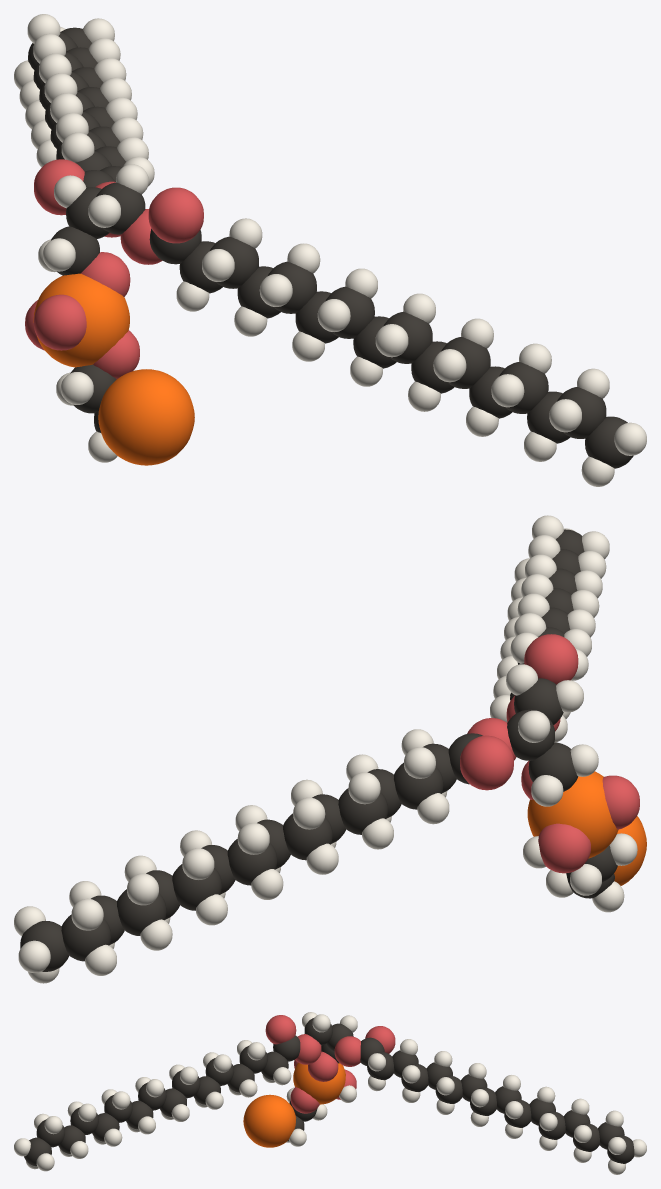
File: phospholipid-membrane.glb
3 views of the same model, one above another, from view 1: azimuth 30°, elevation 25°; view 2: azimuth 150°, elevation 25°; view 3: azimuth 270°, elevation 25° (orthographic). The views are drawn at different scales.
Parts seen in each view (by area): view 1: function-focus-N-2, function-focus-P-46, real-atom-O-39, real-atom-O-42, real-atom-O-38, real-atom-C-37, real-atom-C-34, real-atom-C-26, real-atom-C-28, real-atom-C-30, real-atom-C-24, real-atom-C-36 (+47 smaller); view 2: function-focus-P-46, real-atom-O-38, real-atom-O-43, real-atom-O-39, real-atom-O-42, real-atom-C-1, real-atom-C-16, real-atom-C-12, real-atom-C-8, real-atom-C-14, real-atom-C-20, real-atom-C-18 (+36 smaller); view 3: function-focus-N-2, function-focus-P-46, real-atom-O-39, real-atom-O-40, real-atom-O-44, real-atom-O-41, real-atom-O-45, real-atom-O-38, real-atom-C-22, real-atom-C-37, real-atom-C-31, real-atom-C-23 (+56 smaller).
Boxes of the visible parts, x1,y1,x2,y2 form: function-focus-N-2: (98,369,194,465); function-focus-P-46: (33,273,129,367); real-atom-O-39: (148,187,203,243); real-atom-O-42: (34,294,86,350); real-atom-O-38: (34,159,84,215); real-atom-C-37: (585,416,633,468); real-atom-C-34: (499,362,548,413); real-atom-C-26: (268,261,316,313); real-atom-C-28: (325,286,374,338); real-atom-C-30: (383,311,432,363); real-atom-C-24: (210,236,258,288); real-atom-C-36: (557,387,606,438); function-focus-P-46: (527,771,618,858); real-atom-O-38: (460,735,513,790); real-atom-O-43: (538,823,590,873); real-atom-O-39: (524,634,578,684); real-atom-O-42: (602,775,639,829); real-atom-C-1: (528,742,578,791); real-atom-C-16: (172,864,221,910); real-atom-C-12: (283,813,332,860); real-atom-C-8: (394,762,443,809); real-atom-C-14: (227,839,276,885); real-atom-C-20: (61,914,110,961); real-atom-C-18: (117,889,166,935); function-focus-N-2: (243,1094,296,1147); function-focus-P-46: (293,1062,345,1104); real-atom-O-39: (265,1015,296,1044); real-atom-O-40: (334,1036,360,1066); real-atom-O-44: (308,1051,338,1081); real-atom-O-41: (295,1034,321,1064); real-atom-O-45: (290,1087,319,1113); real-atom-O-38: (365,1026,395,1053); real-atom-C-22: (273,1035,300,1061); real-atom-C-37: (24,1137,51,1166); real-atom-C-31: (126,1100,153,1129); real-atom-C-23: (261,1051,288,1080).
Size of what is drawn, in the model's own units: 0.9556 by 0.6544 by 2.62.
